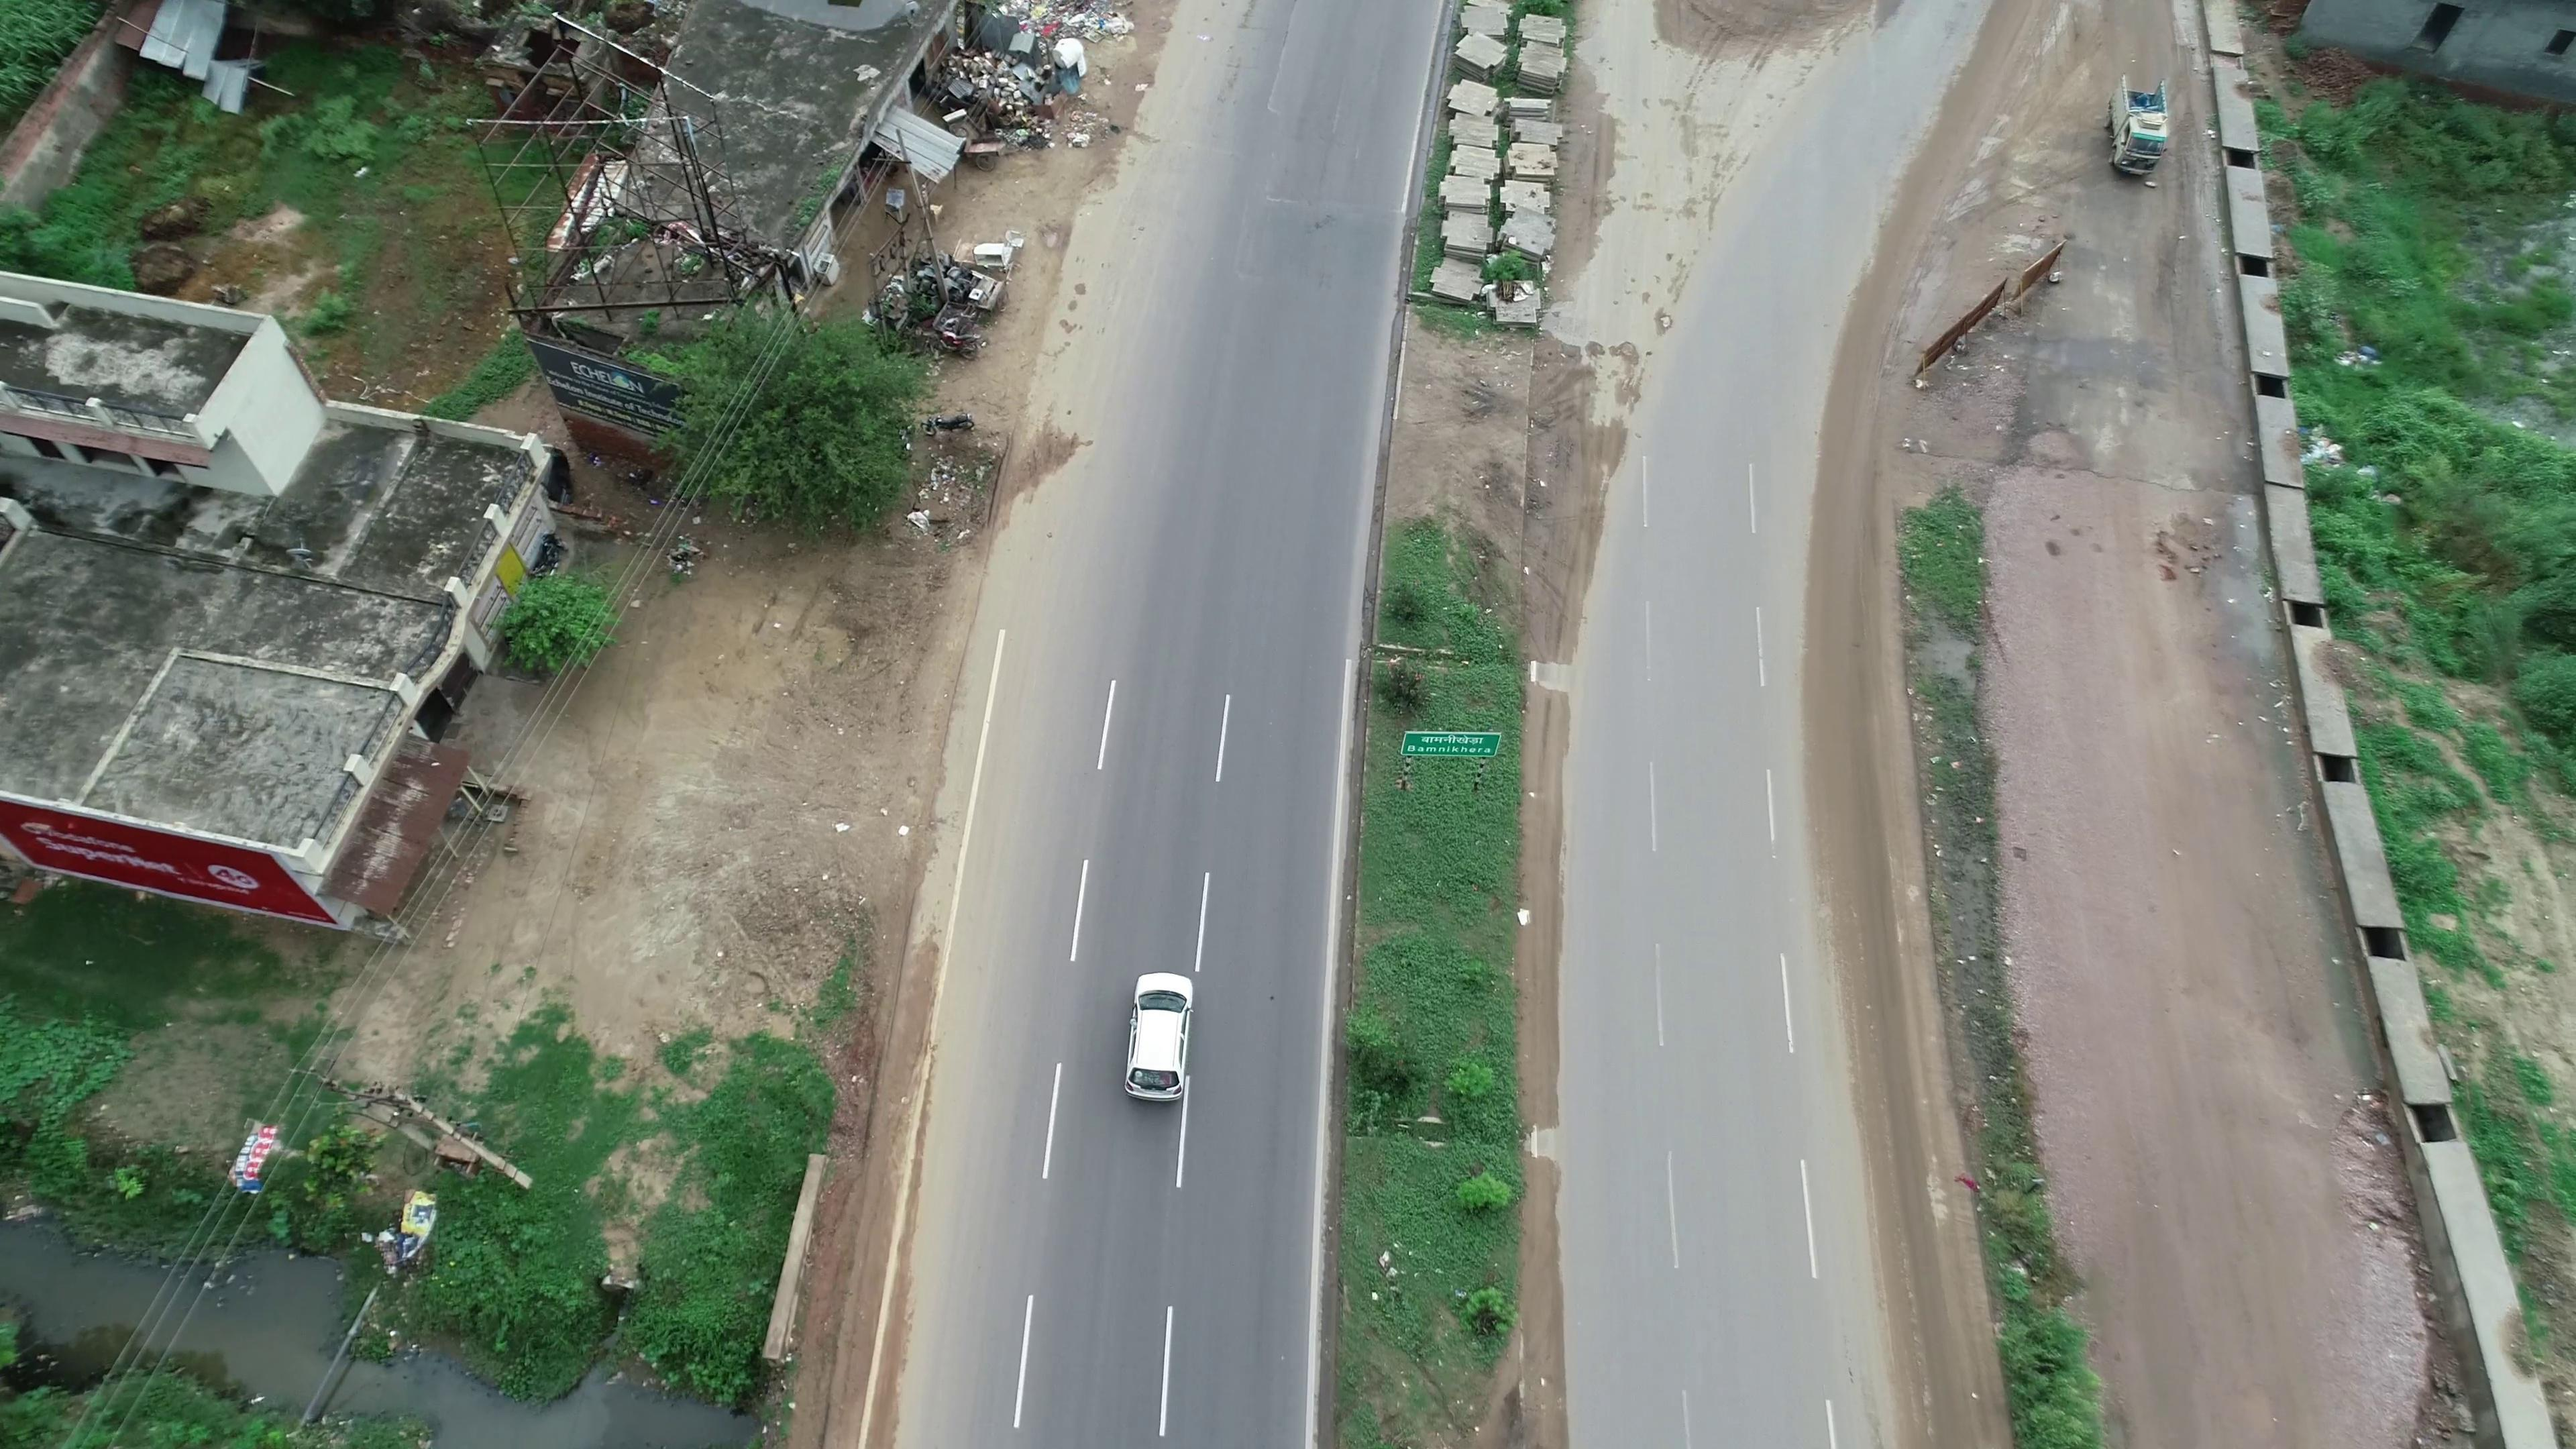Muddy_road: (1785, 637, 1928, 1085), (1849, 1092, 1992, 1435), (1534, 343, 1644, 679), (1796, 313, 1877, 635)
